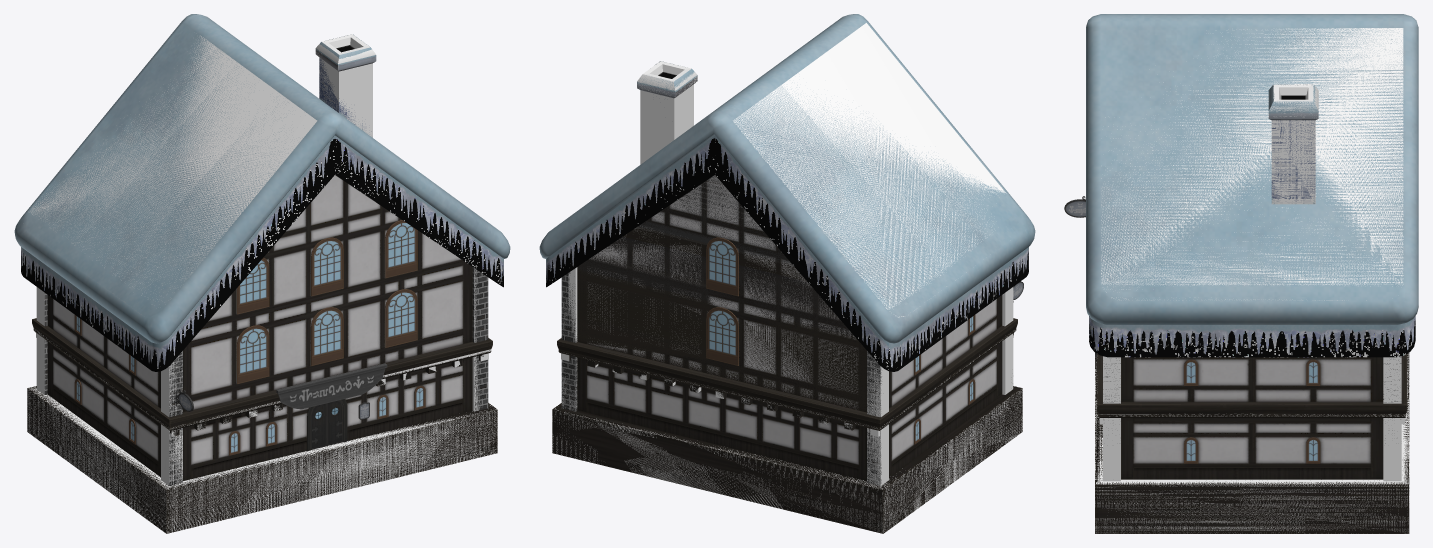
Rendered from objects_un_t08house02.gltf.
3 renders of one model, left to right at view 1: azimuth 30°, elevation 25°; view 2: azimuth 150°, elevation 25°; view 3: azimuth 270°, elevation 25°, orthographic. The views are drawn at different scales.
Parts seen in each view (by area): view 1: um_objects_un_t08house02_model_lod0Shape:objects_un_t08house (×6), um_objects_un_t08house02_model_lod2Shape:objects_un_t08house (×3), um_objects_un_t08house02_model_lod1Shape:objects_un_t08house (×4), nomerge_int_shape:objects_un_behind; view 2: um_objects_un_t08house02_model_lod0Shape:objects_un_t08house (×5), um_objects_un_t08house02_model_lod2Shape:objects_un_t08house (×3), um_objects_un_t08house02_model_lod1Shape:objects_un_t08house (×4), nomerge_int_shape:objects_un_behind; view 3: um_objects_un_t08house02_model_lod0Shape:objects_un_t08house (×6), um_objects_un_t08house02_model_lod1Shape:objects_un_t08house (×3), um_objects_un_t08house02_model_lod2Shape:objects_un_t08house, nomerge_int_shape:objects_un_behind.
Boxes of the visible parts, x1,y1,x2,y2 form: um_objects_un_t08house02_model_lod0Shape:objects_un_t08house (×6): [14, 14, 510, 533]; um_objects_un_t08house02_model_lod2Shape:objects_un_t08house (×3): [48, 176, 479, 478]; um_objects_un_t08house02_model_lod1Shape:objects_un_t08house (×4): [23, 175, 492, 475]; nomerge_int_shape:objects_un_behind: [77, 223, 422, 451]; um_objects_un_t08house02_model_lod0Shape:objects_un_t08house (×5): [539, 14, 1035, 533]; um_objects_un_t08house02_model_lod2Shape:objects_un_t08house (×3): [570, 175, 1002, 478]; um_objects_un_t08house02_model_lod1Shape:objects_un_t08house (×4): [557, 175, 1022, 479]; nomerge_int_shape:objects_un_behind: [710, 241, 972, 439]; um_objects_un_t08house02_model_lod0Shape:objects_un_t08house (×6): [1064, 14, 1418, 533]; um_objects_un_t08house02_model_lod1Shape:objects_un_t08house (×3): [1097, 285, 1406, 479]; um_objects_un_t08house02_model_lod2Shape:objects_un_t08house: [1121, 357, 1383, 479]; nomerge_int_shape:objects_un_behind: [1187, 362, 1317, 460].
Size of what is drawn, in the model's own units: 18.13 by 18.14 by 13.64.
8 materials, 5 textured.
